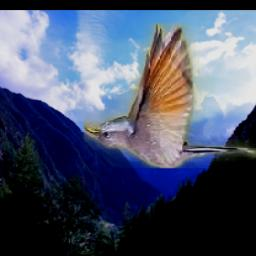Cuckoo: (84, 23, 256, 168)
